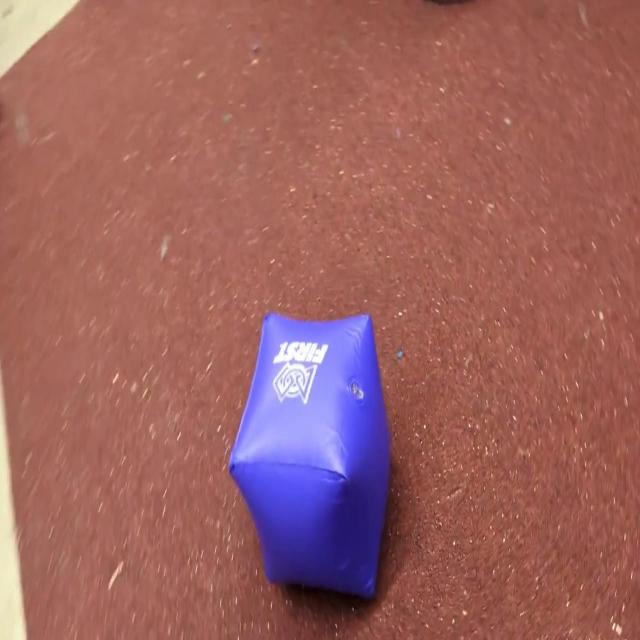frc_cube: (227, 307, 393, 599)
